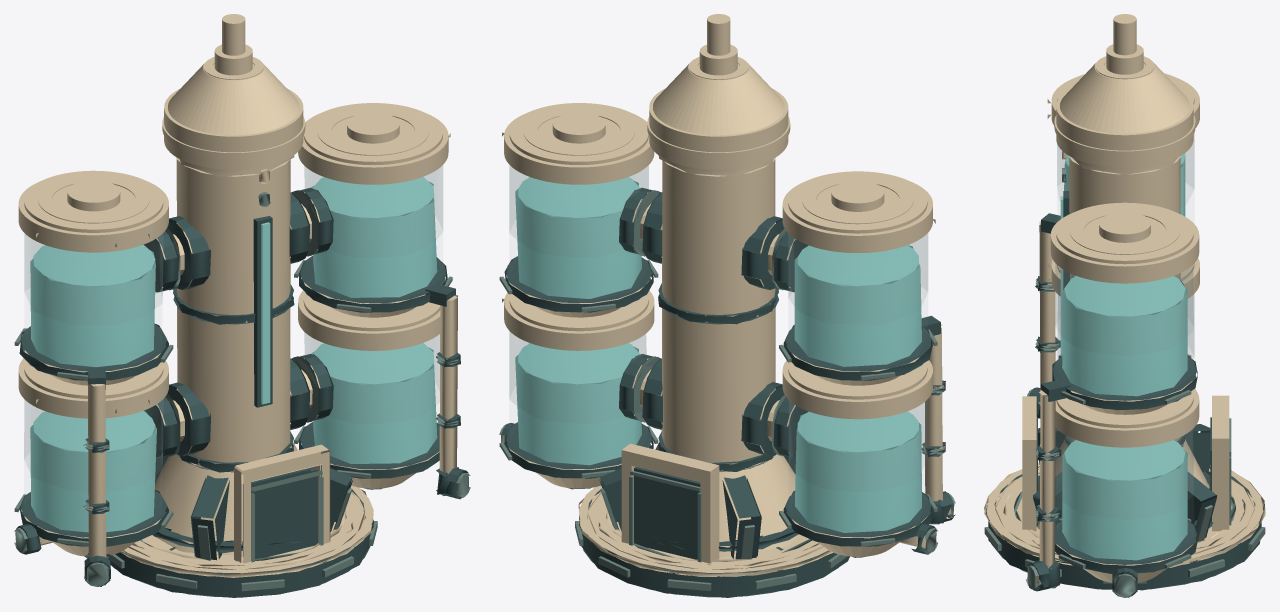
Rendered from Vat_T3_capneon.glb.
The picture shows the model from 3 angles, left to right: view 1: azimuth 30°, elevation 25°; view 2: azimuth 150°, elevation 25°; view 3: azimuth 270°, elevation 25°; orthographic projection.
Visible parts, largest first — view 1: Vat_T3, CapNeon; view 2: Vat_T3, CapNeon; view 3: Vat_T3, CapNeon.
Part boxes in pixels (<box>): Vat_T3: <box>14,14,470,597</box>; CapNeon: <box>38,57,428,223</box>; Vat_T3: <box>499,14,955,597</box>; CapNeon: <box>523,57,913,224</box>; Vat_T3: <box>984,14,1265,597</box>; CapNeon: <box>1070,56,1179,254</box>.
Size of the model in its own units: 6.75 by 7.91 by 3.89.
